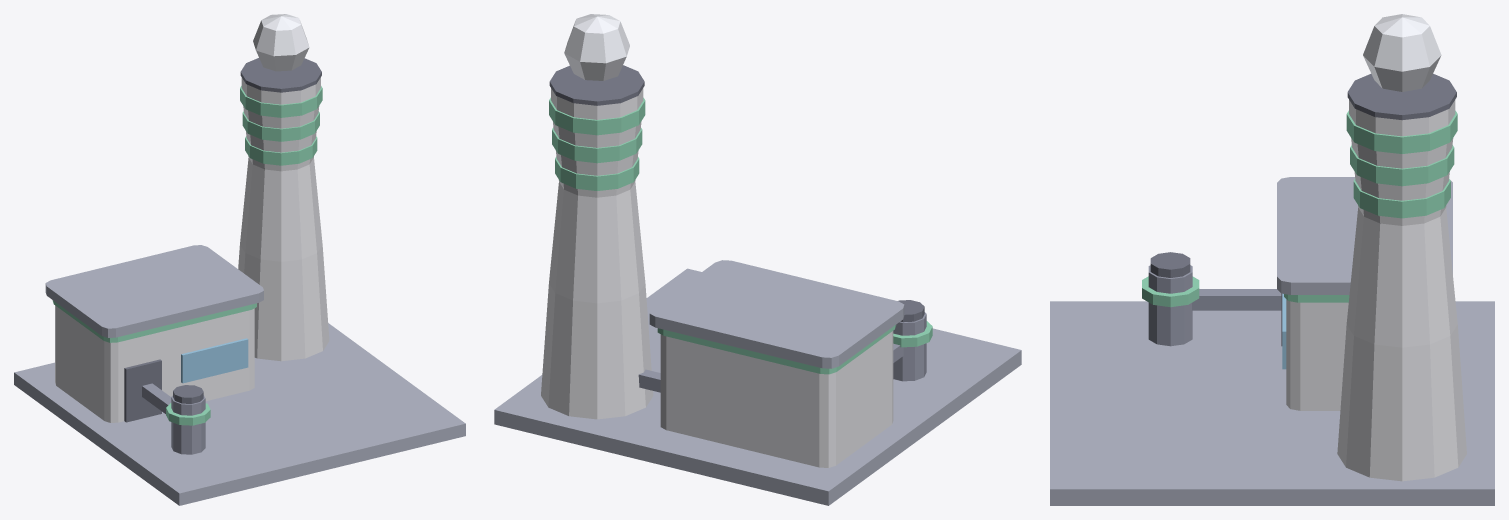
File: geothermal-1x1-t3-tone-a.glb
The picture shows the model from 3 angles, left to right: view 1: azimuth 30°, elevation 25°; view 2: azimuth 150°, elevation 25°; view 3: azimuth 270°, elevation 25°; orthographic projection. The views are drawn at different scales.
Parts seen in each view (by area): view 1: geothermal-1x1-t3-tone-a; view 2: geothermal-1x1-t3-tone-a; view 3: geothermal-1x1-t3-tone-a.
Part boxes in pixels (x1=…): geothermal-1x1-t3-tone-a: x1=14, y1=14, x2=465, y2=505; geothermal-1x1-t3-tone-a: x1=494, y1=14, x2=1021, y2=505; geothermal-1x1-t3-tone-a: x1=1050, y1=14, x2=1494, y2=505.
Size of the model in its own units: 0.96 by 1.08 by 0.96.
Materials: 1 (1 with a texture image).
